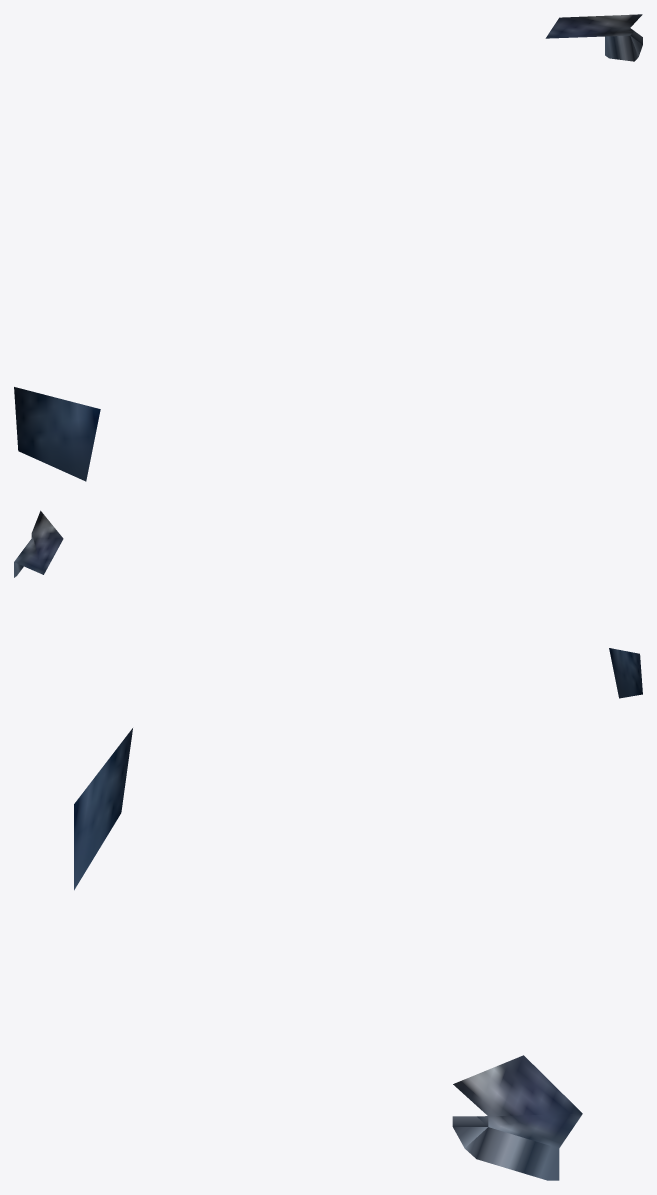
3 renders of one model, top to bottom at view 1: azimuth 30°, elevation 25°; view 2: azimuth 150°, elevation 25°; view 3: azimuth 270°, elevation 25°, orthographic. The views are drawn at different scales.
Visible parts, largest first — view 1: 30436272704370425413_1; view 2: 30436272704370425413_1; view 3: 30436272704370425413_1.
Part boxes in pixels (x1=…): 30436272704370425413_1: x1=14, y1=14, x2=642, y2=481; 30436272704370425413_1: x1=14, y1=510, x2=642, y2=698; 30436272704370425413_1: x1=74, y1=728, x2=582, y2=1180.
Bounding box in the file's own units: 15.65 × 4.01 × 6.64.
1 material, 1 textured.
